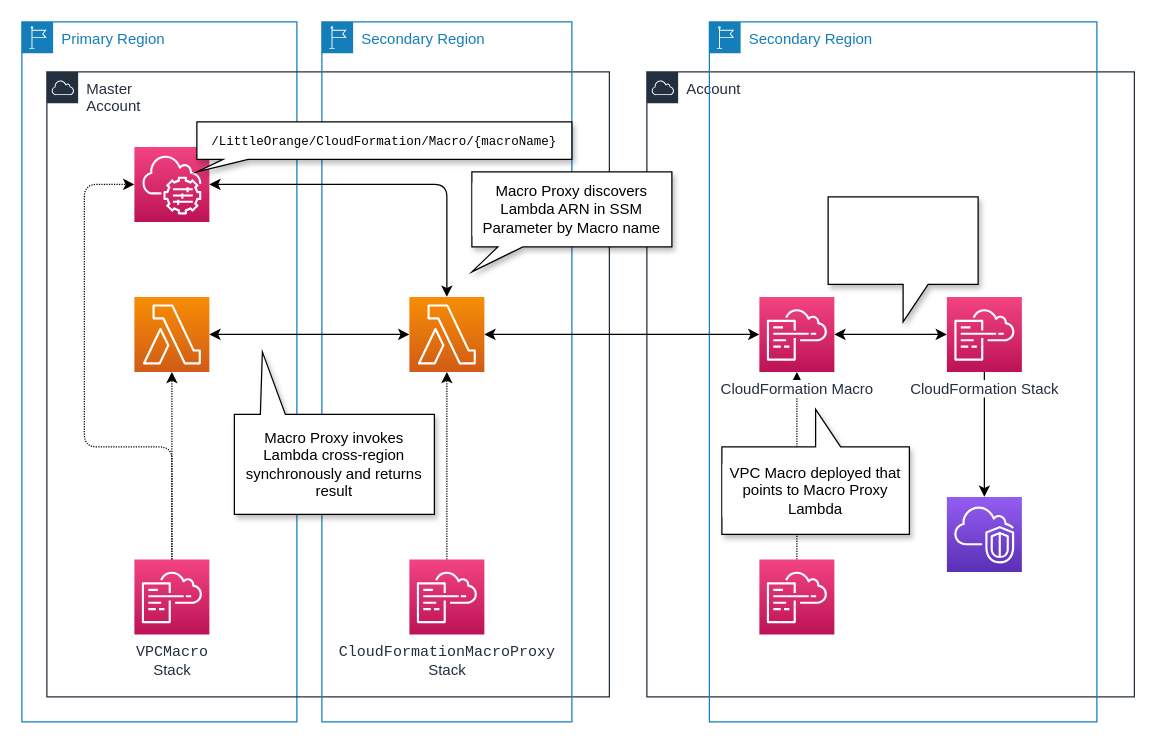
This 1156x744 diagram has some shape labels left out. The shapes that lost their labels are listed below. From the top down, each one's centre as x and y in pixels, then its label:
(171,184): Parameter Store
(904,261): VPC Resources transformed via Macro
(171,334): VPC Macro
(446,334): Macro Proxy
(984,534): VPC Resources
(796,596): VPCMacroProxied Stack
